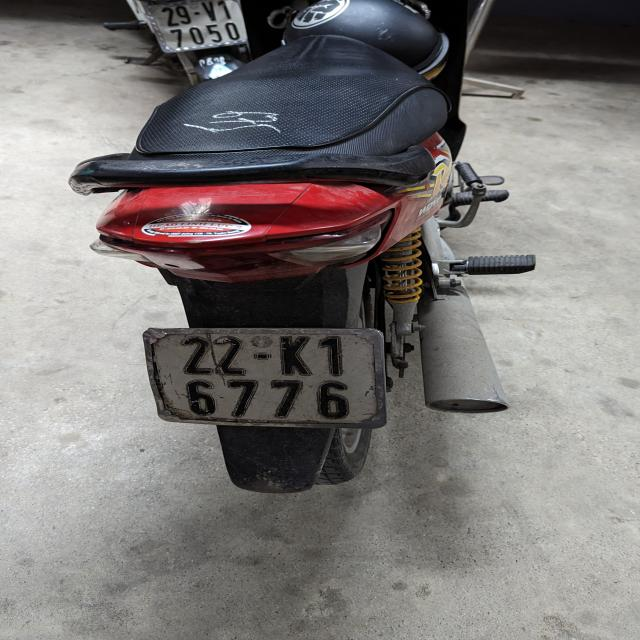License: (142, 326, 388, 429)
